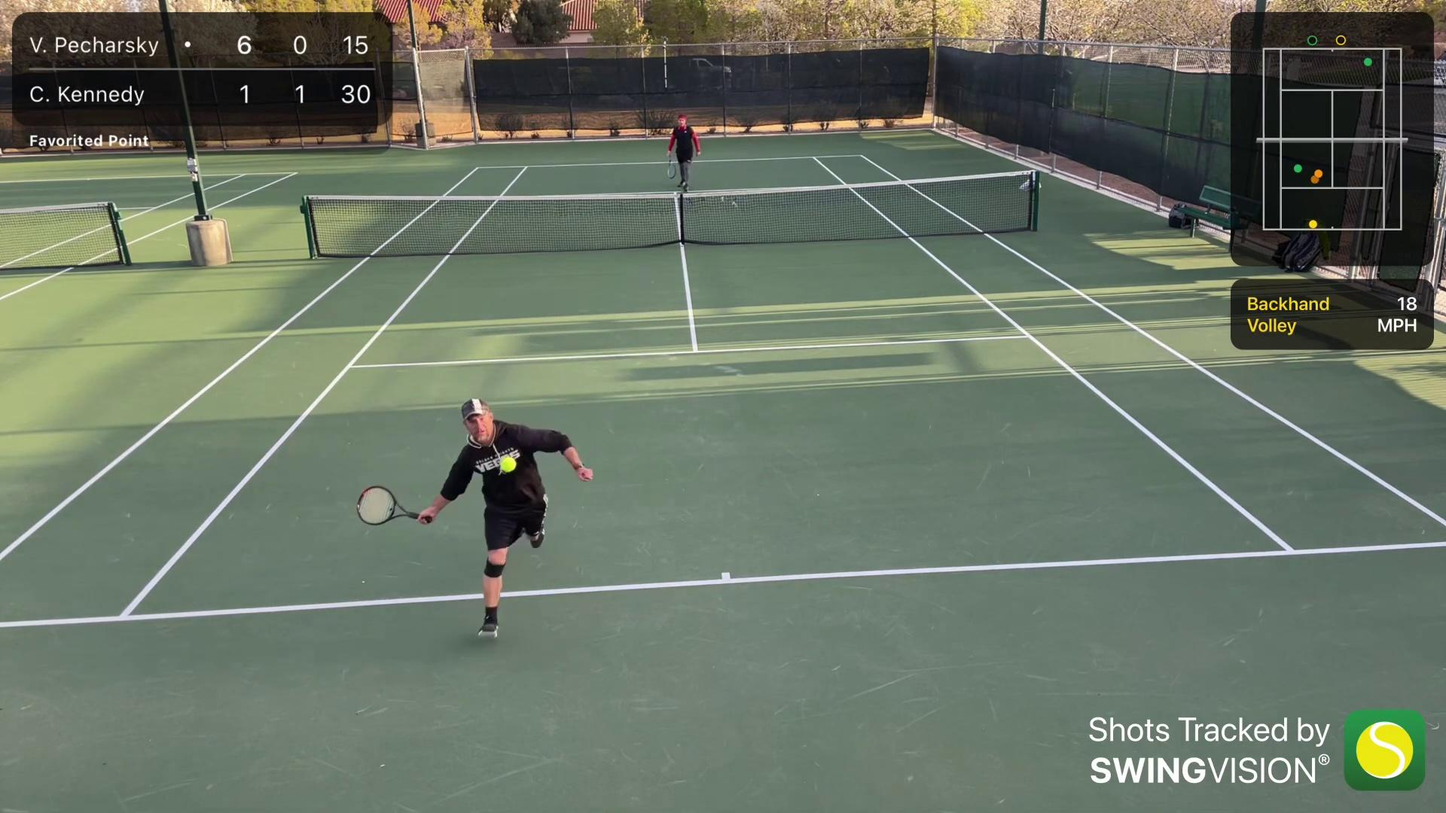ball: (492, 455, 525, 476)
